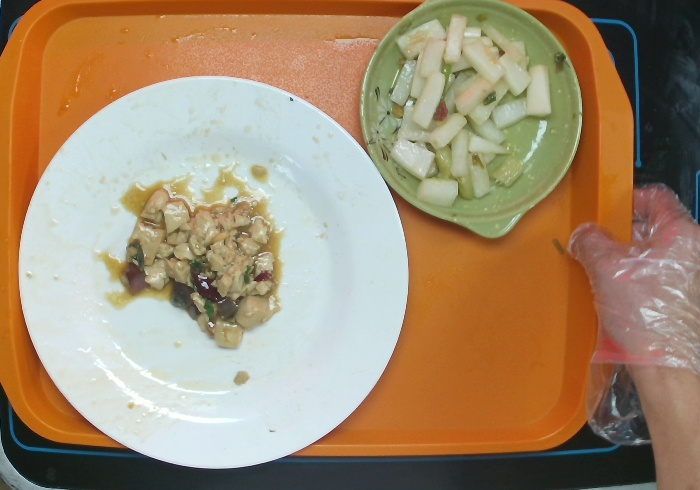NLDX-Da_Yuan_Pan: (12, 67, 422, 479)
NLDX-Lv_Hua_Shuang_Er_Die: (356, 1, 588, 242)
